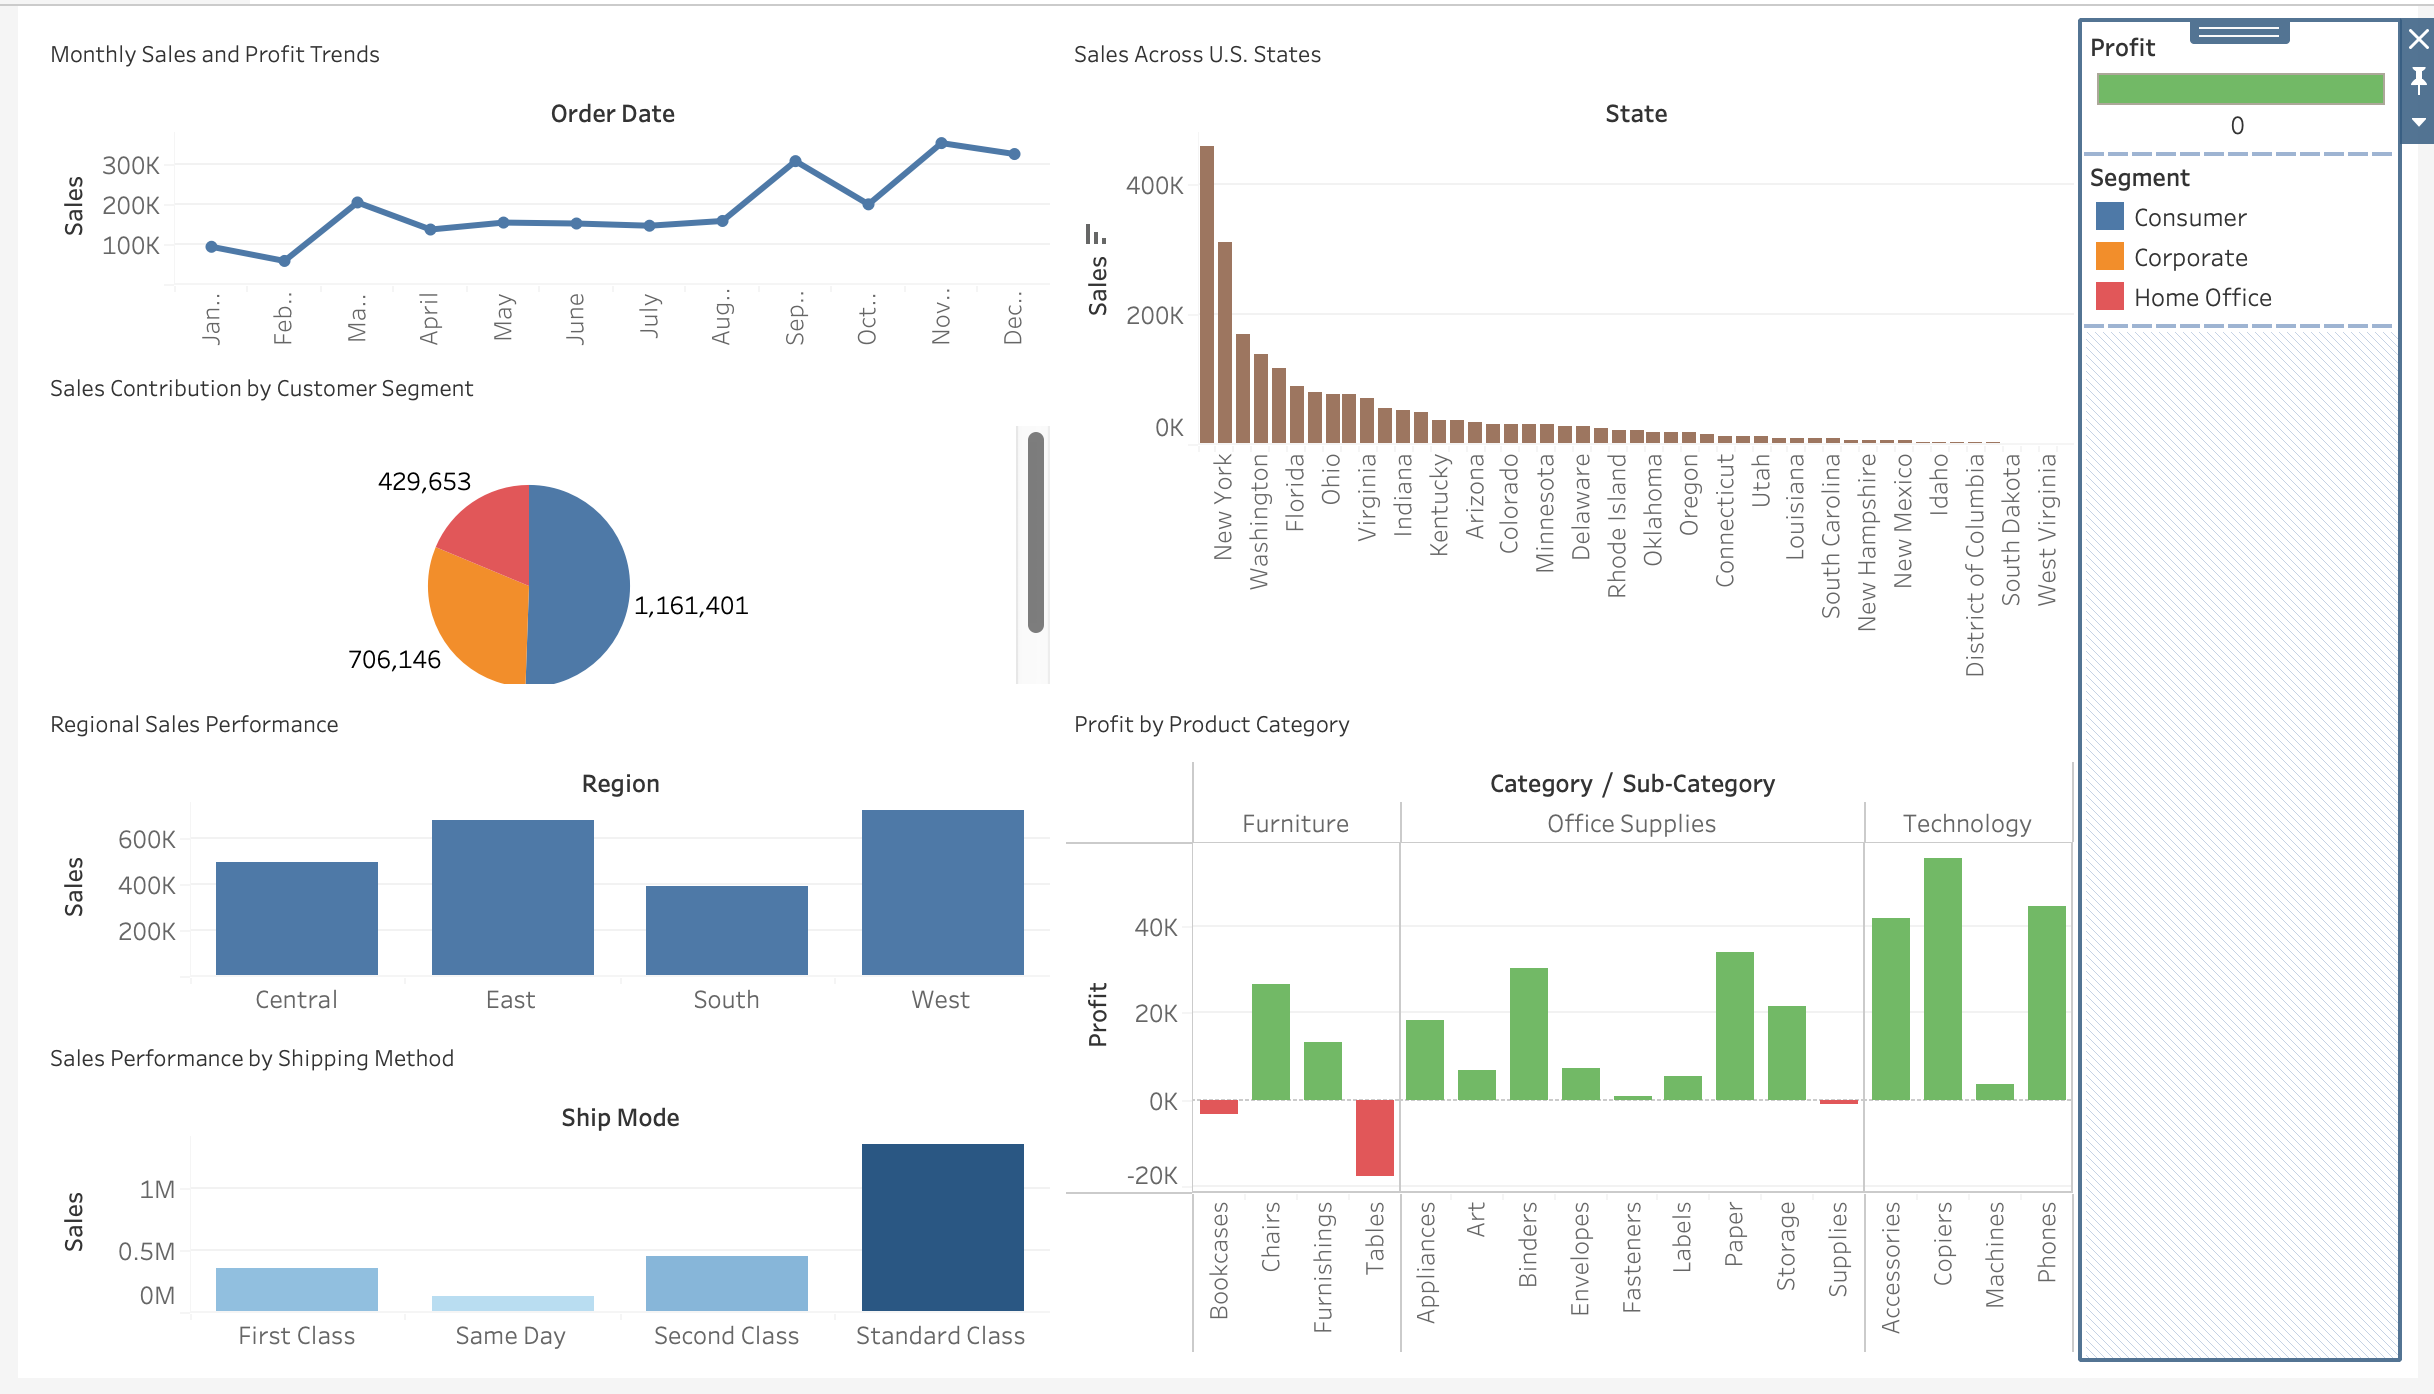

The page's visual inventory and layout, read from the dashboard file:
{"tool":"tableau","page":{"name":"Dashboard 1","canvas":[1000,1000],"units":"permille","ordinal":0},"visuals":[{"type":"worksheet","title":"Monthly Sales and Profit Trends","mark":"Automatic","rows":["Sales"],"cols":["Order Date"],"box":[6.7,11.7,426.6,244.1]},{"type":"worksheet","title":"Sales Across U.S. States","mark":"Automatic","rows":["Sales"],"cols":["State"],"box":[433.3,11.7,426.7,488.3]},{"type":"legend","title":"Profit by Product Category","param":"[federated.1cdqhp10hc5dif1783zzf06ymb7h].[sum:Profit:qk]","box":[860,11.7,133.3,94.8]},{"type":"legend","title":"Sales Contribution by Customer Segment","param":"[federated.1cdqhp10hc5dif1783zzf06ymb7h].[none:Segment:nk]","box":[860,106.4,133.3,125.4]},{"type":"worksheet","title":"Sales Contribution by Customer Segment","mark":"Pie","box":[6.7,255.8,426.6,244.2]},{"type":"worksheet","title":"Regional Sales Performance","mark":"Automatic","rows":["Sales"],"cols":["Region"],"box":[6.7,500,426.6,244.2]},{"type":"worksheet","title":"Profit by Product Category","mark":"Automatic","rows":["Profit"],"cols":["Category","Sub-Category"],"box":[433.3,500,426.7,488.4]},{"type":"worksheet","title":"Sales Performance by Shipping Method","mark":"Automatic","rows":["Sales"],"cols":["Ship Mode"],"box":[6.7,744.1,426.6,244.2]}]}

Visuals, with their boxes on the dashboard's canvas, which has no fixed pixel size, in thousandths of its width and height (x1, y1, x2, y2). These are canvas units, not pixel positions in the 2434x1394 screenshot, which may show the page scaled, cropped or inside an application window:
"Monthly Sales and Profit Trends" worksheet: x1=7, y1=12, x2=433, y2=256
"Sales Across U.S. States" worksheet: x1=433, y1=12, x2=860, y2=500
"Profit by Product Category" legend: x1=860, y1=12, x2=993, y2=106
"Sales Contribution by Customer Segment" legend: x1=860, y1=106, x2=993, y2=232
"Sales Contribution by Customer Segment" worksheet (Pie marks): x1=7, y1=256, x2=433, y2=500
"Regional Sales Performance" worksheet: x1=7, y1=500, x2=433, y2=744
"Profit by Product Category" worksheet: x1=433, y1=500, x2=860, y2=988
"Sales Performance by Shipping Method" worksheet: x1=7, y1=744, x2=433, y2=988
